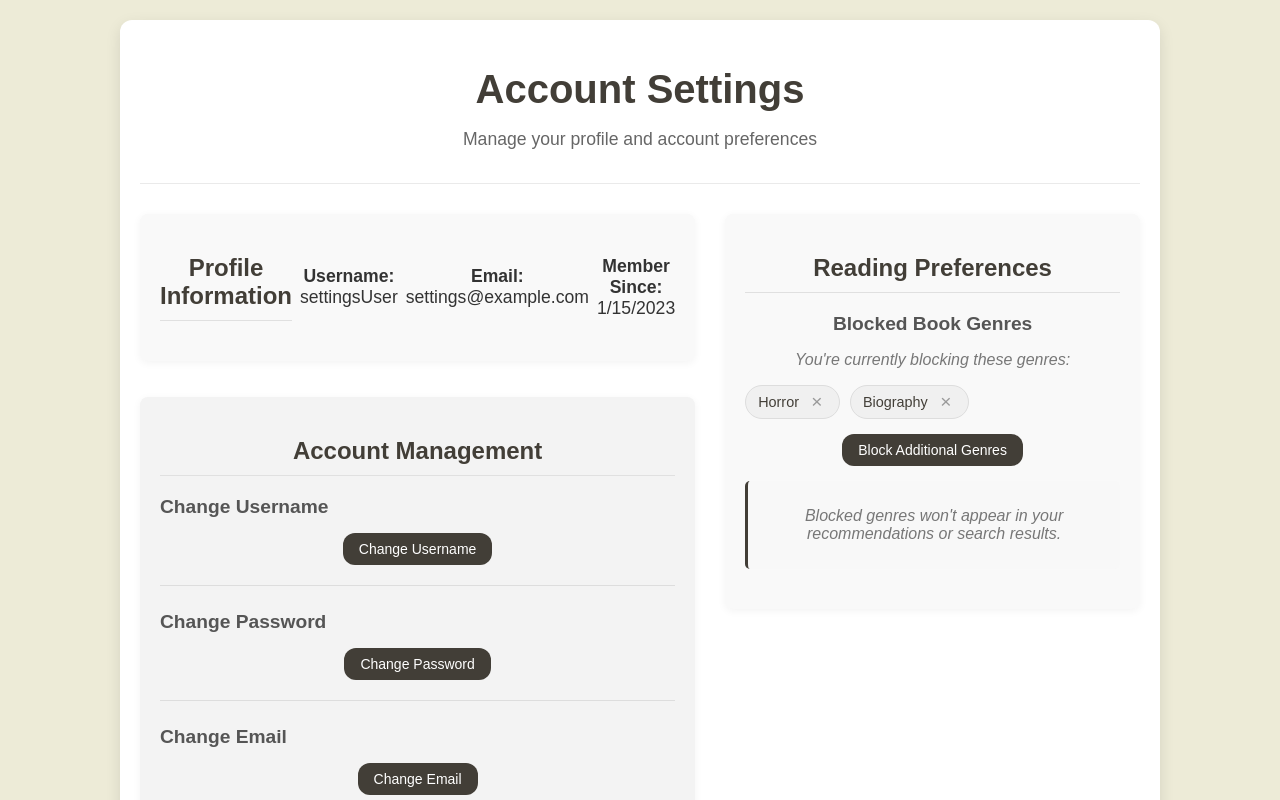
Settings Component › disables submit button if no genre is selected
The width and height of the screenshot is (1280, 800).
Click the button "Block Additional Genres". click: (933, 450)
box: [842,434,1023,466]
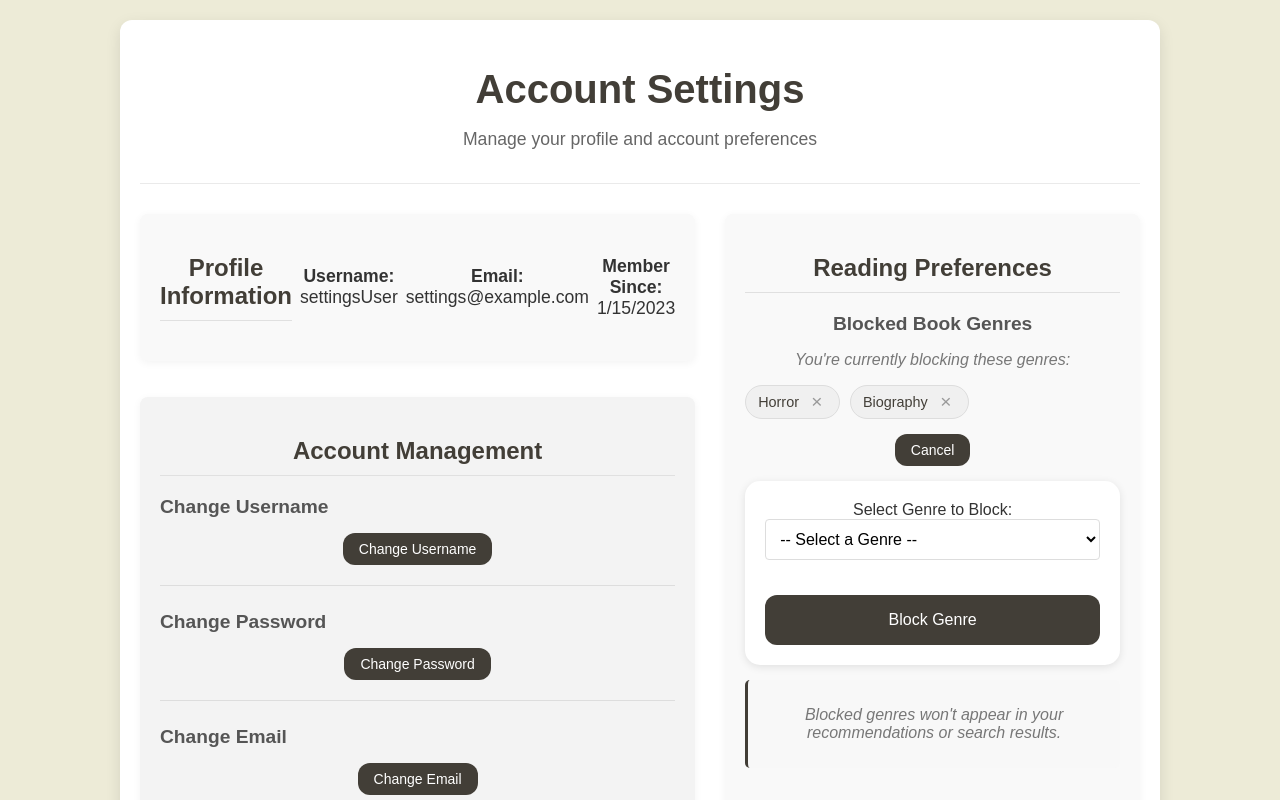
Expected: the form is shown, [745,481,1120,665]
Expected: the dropdown labelled "Select Genre to Block:" shows "-- Select a Genre --", [765,519,1100,560]
Expected: the button "Block Genre" is disabled, [765,595,1100,645]
